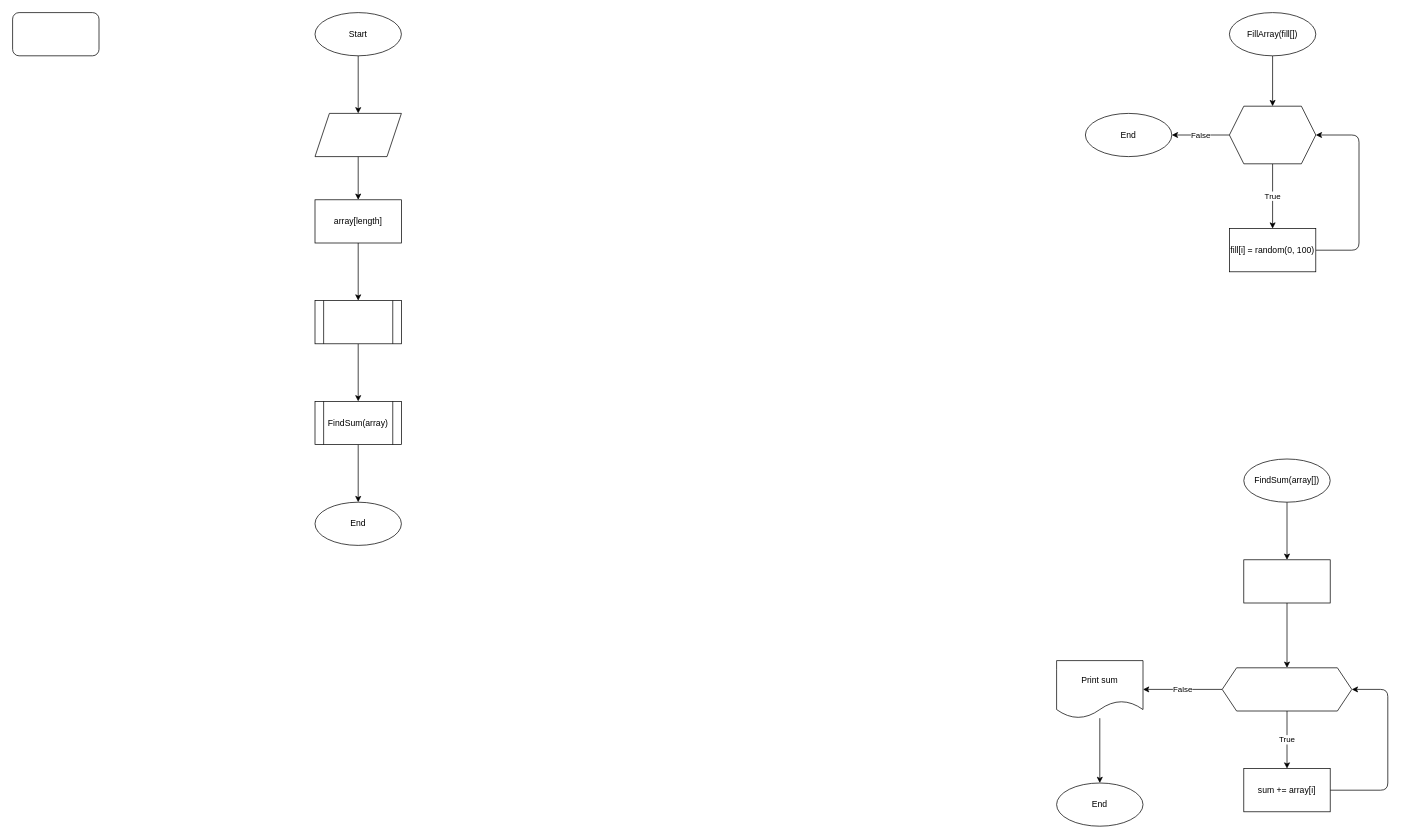
The diagram is 1406 pixels wide and 839 high, and some of its shapes have lost their labels. Here are the shapes that lost their labels. From the top down, the centre of each, then its label:
At [55,34]: "Найти сумму чисел одномерного массива стоящих на нечетной позиции".
At [357,135]: "length".
At [1272,134]: "i < fill.Length".
At [357,322]: "FillArray(array)".
At [1286,581]: "sum = 0".
At [1286,689]: "i = 1, i < array.Length, i+=2".
